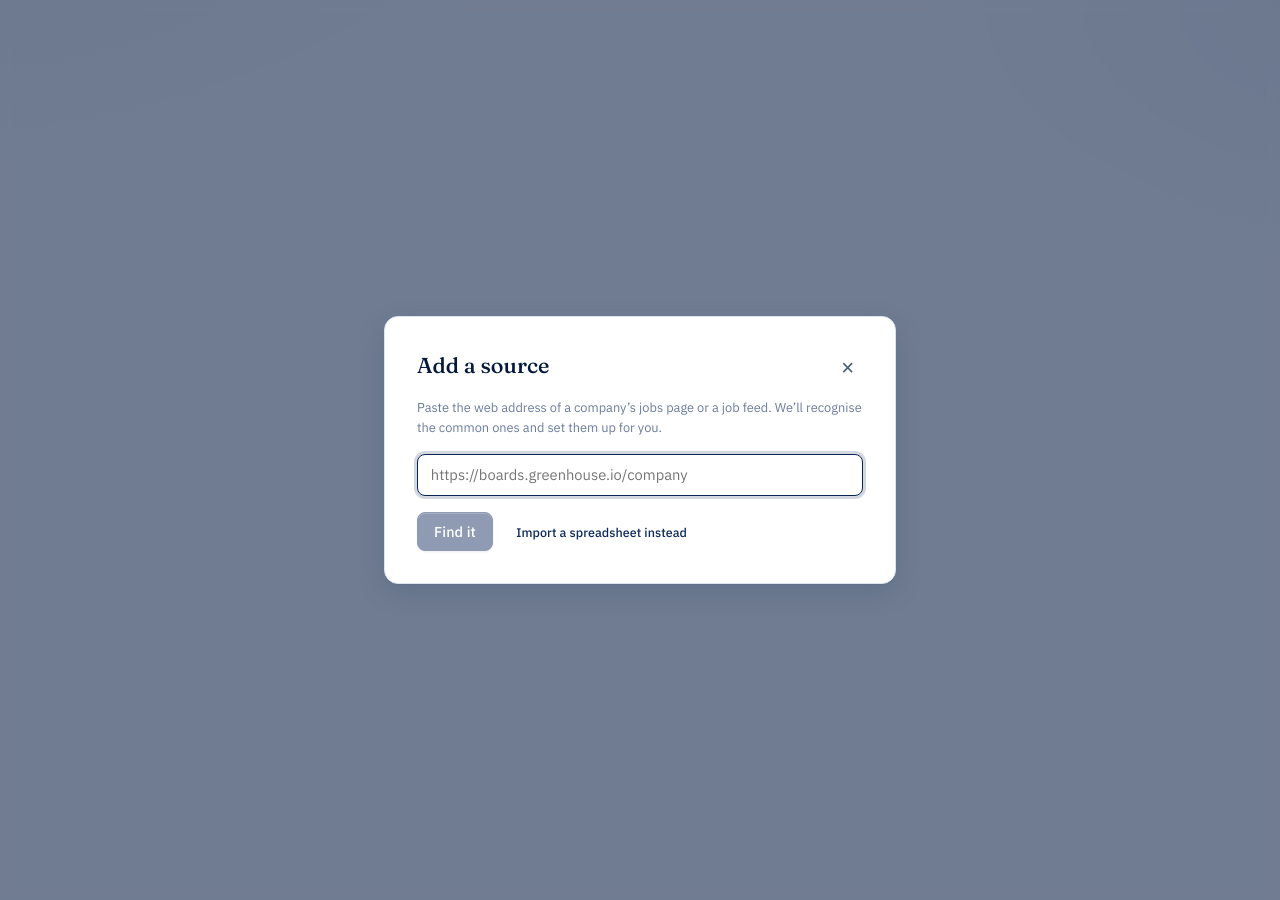
Test: AddSourceModal › offers manual import when nothing is detected
In the field with placeholder "https://boards.greenhouse.io/company": (640, 475) top-left (417, 454), bottom-right (863, 496), type "https://example.com/careers"
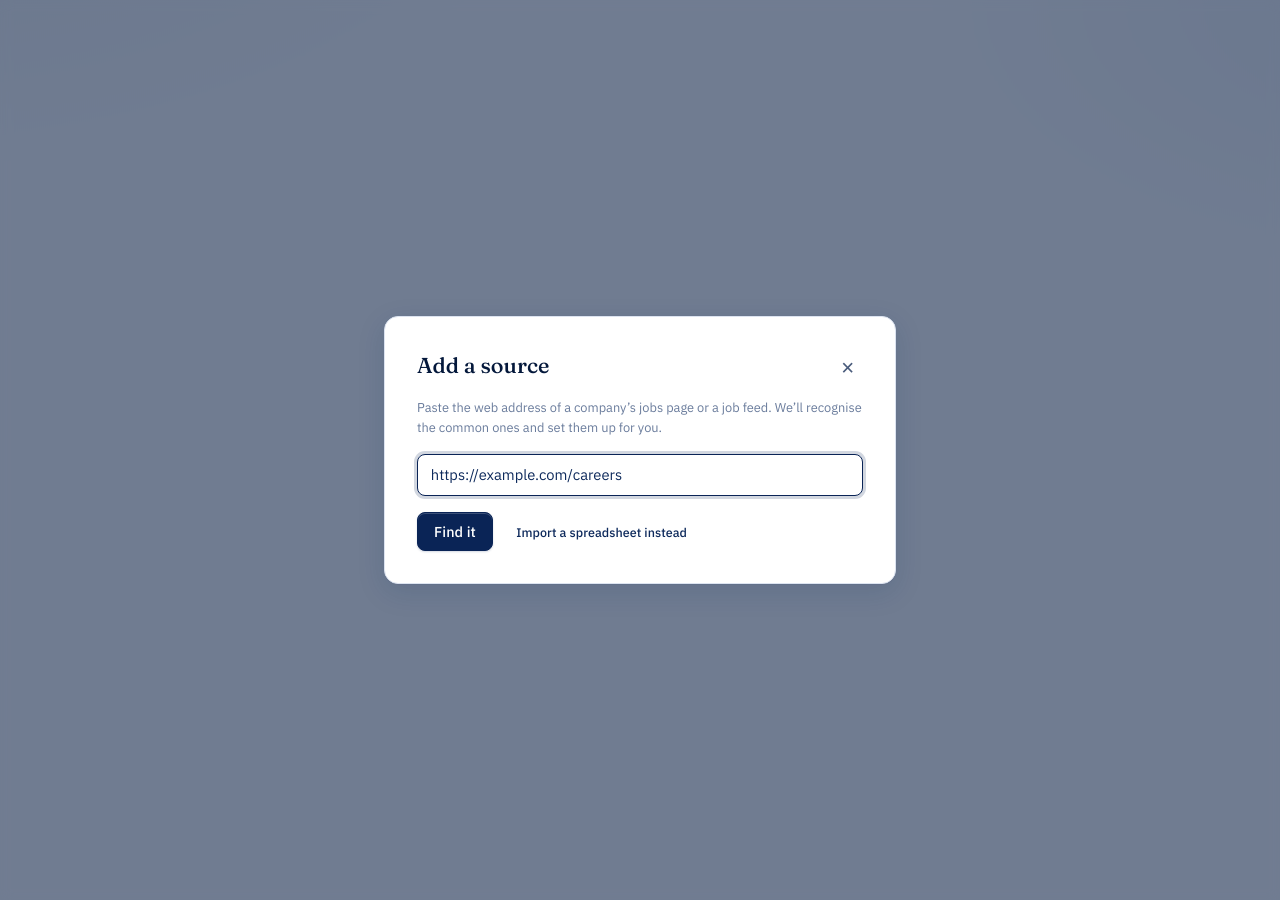
Click the button "Find it": click(455, 532) top-left (417, 512), bottom-right (493, 551)
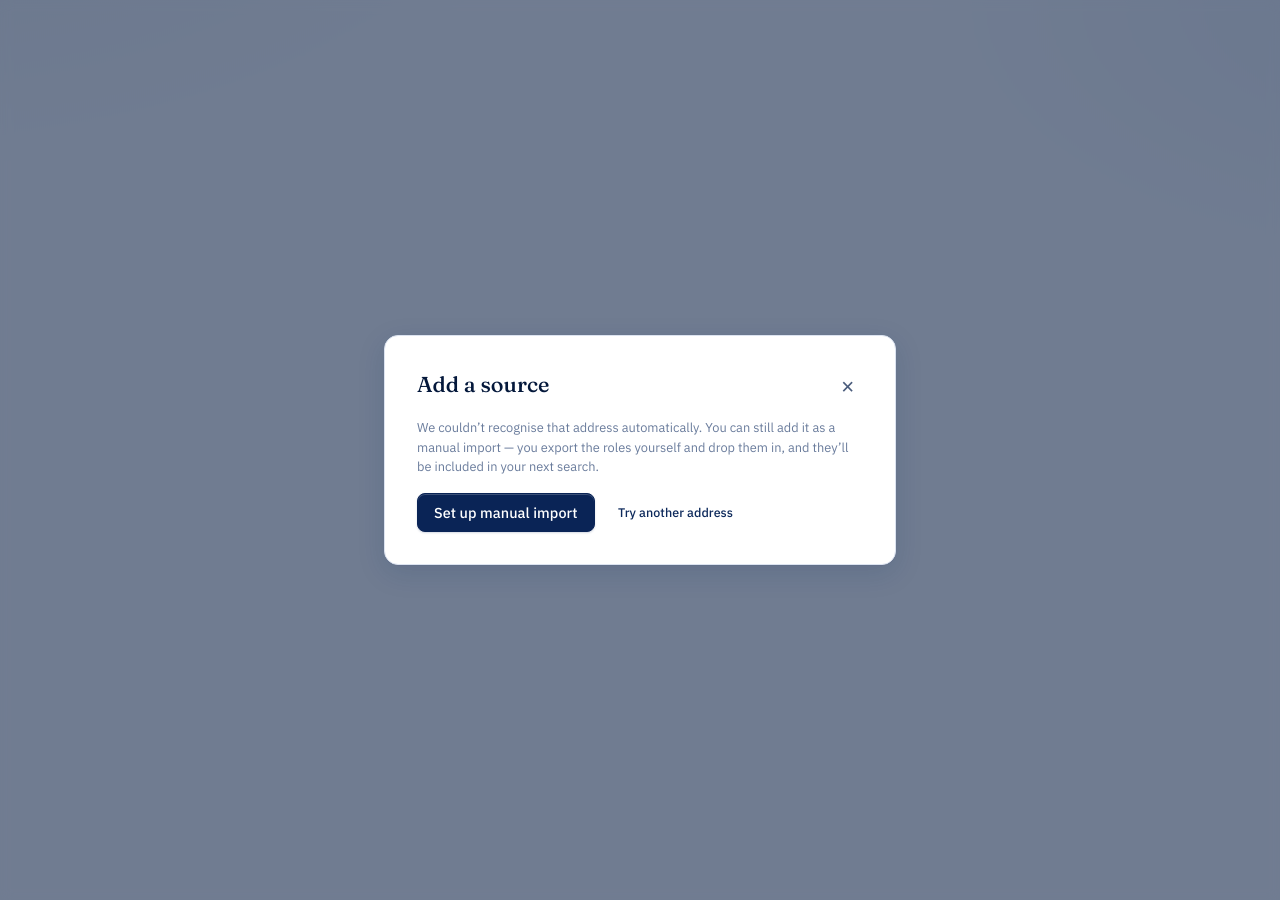
Check: the button "Set up manual import" is shown, box top-left (417, 493), bottom-right (595, 532)
